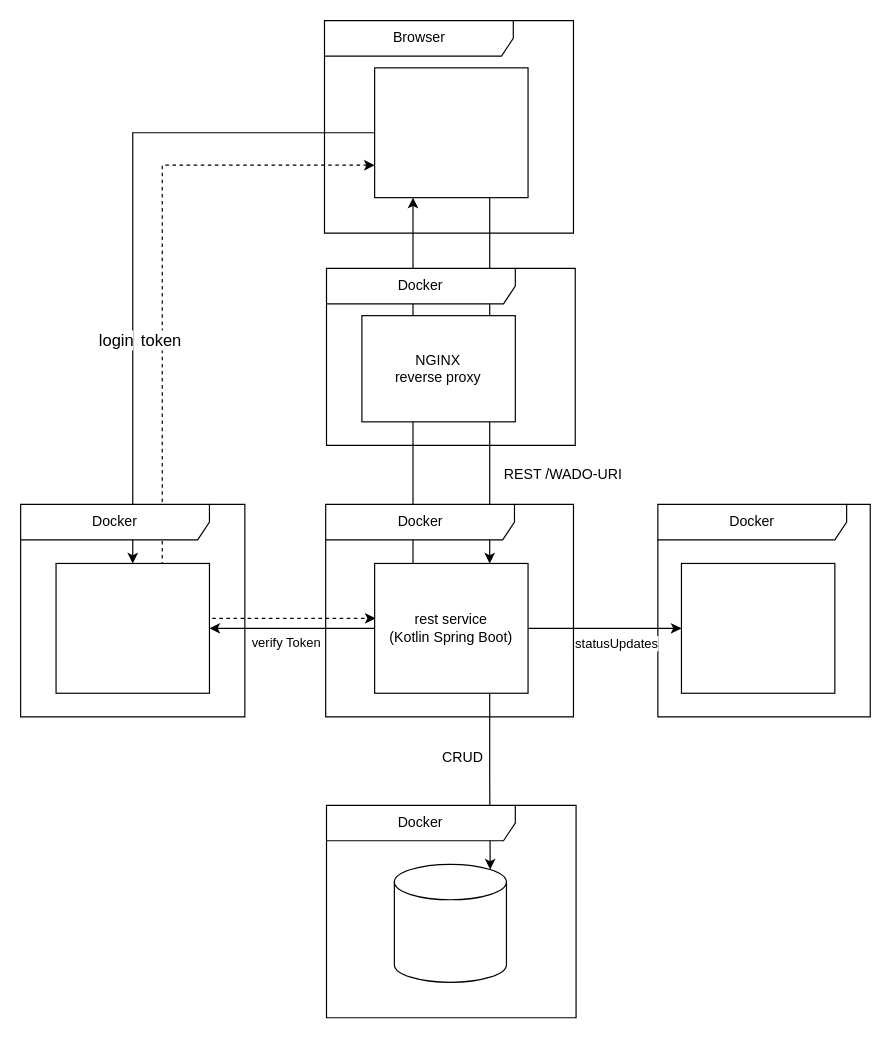
This 891x1038 diagram has some shape labels left out. Each missing label, with the centre of its shape:
Keycloak (OAuth2): [132,627]
monitoring (Uptime Kuma): [757,627]
Supabase: [449,922]
web app client (React SPA): [450,132]
